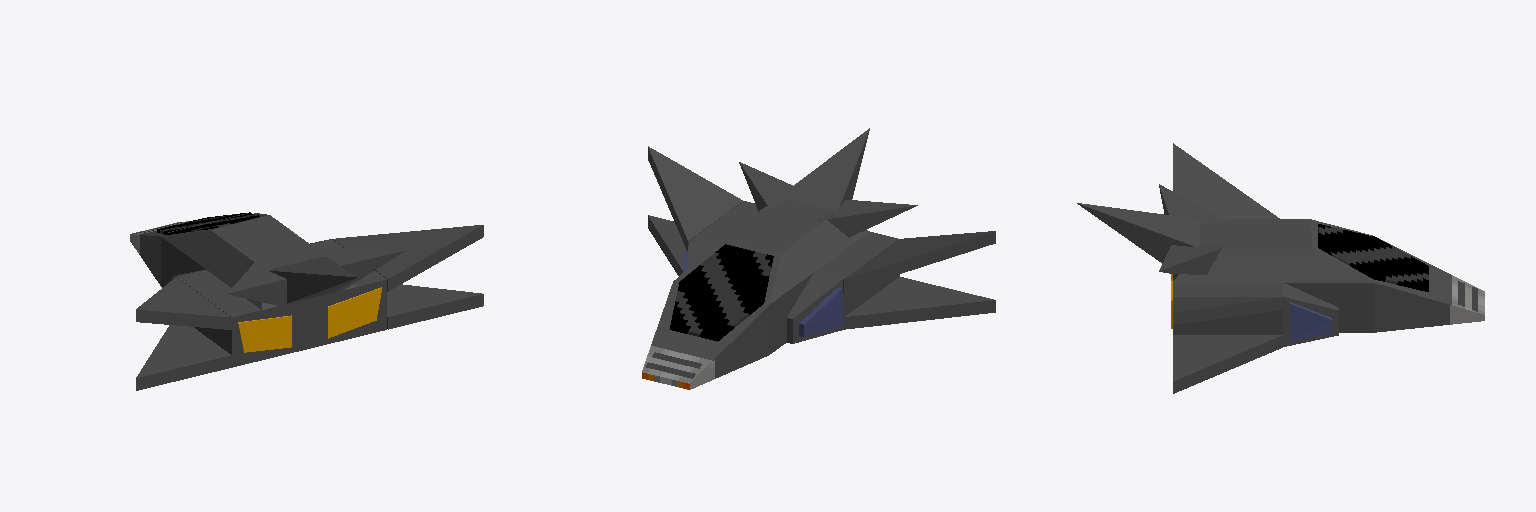
3 views of the same model, side by side, from view 1: azimuth 30°, elevation 25°; view 2: azimuth 150°, elevation 25°; view 3: azimuth 270°, elevation 25° (orthographic).
Parts seen in each view (by area): view 1: основа-верх, крыло2-верхнее, основа, крыло1, крыло1-верхнее, предкрыльник1, крыло2, хвост, крыло-хвоста1, крыло-хвоста2, фара2, фара1 (+2 smaller); view 2: основа-верх, нос корабля, крыло1, крыло2-верхнее, крыло1-верхнее, стекло1, стекло2, хвост, предкрыльник1, крыло-хвоста1, часть предкрыльника1, часть части предкрыльника1 (+4 smaller); view 3: основа-верх, нос корабля, крыло2, предкрыльник2, крыло1-верхнее, хвост, основа, крыло2-верхнее, стекло1, стекло2, крыло-хвоста2, часть предкрыльника2 (+2 smaller).
Boxes of the visible parts, box(x1,y1,x2,y2) form: основа-верх: box(162, 213, 357, 309); крыло2-верхнее: box(332, 225, 483, 291); основа: box(161, 213, 357, 359); крыло1: box(136, 325, 231, 390); крыло1-верхнее: box(136, 277, 231, 329); предкрыльник1: box(177, 270, 261, 367); крыло2: box(387, 284, 483, 329); хвост: box(269, 256, 357, 303); крыло-хвоста1: box(227, 259, 291, 308); крыло-хвоста2: box(306, 247, 405, 299); фара2: box(328, 287, 381, 338); фара1: box(238, 315, 291, 352); основа-верх: box(673, 200, 869, 304); нос корабля: box(642, 282, 768, 389); крыло1: box(844, 277, 995, 329); крыло2-верхнее: box(648, 146, 742, 250); крыло1-верхнее: box(844, 231, 995, 291); стекло1: box(670, 281, 763, 341); стекло2: box(681, 244, 773, 302); хвост: box(780, 128, 869, 209); предкрыльник1: box(815, 232, 899, 316); крыло-хвоста1: box(818, 200, 917, 237); часть предкрыльника1: box(787, 272, 843, 343); часть части предкрыльника1: box(799, 287, 842, 336); основа-верх: box(1173, 219, 1373, 282); нос корабля: box(1374, 239, 1484, 332); крыло2: box(1173, 335, 1282, 393); предкрыльник2: box(1173, 283, 1282, 334); крыло1-верхнее: box(1173, 143, 1279, 218); хвост: box(1077, 203, 1199, 263); основа: box(1285, 283, 1373, 332); крыло2-верхнее: box(1173, 297, 1282, 324); стекло1: box(1374, 236, 1428, 291); стекло2: box(1318, 224, 1373, 278); крыло-хвоста2: box(1159, 244, 1225, 274); часть предкрыльника2: box(1283, 283, 1338, 346).
Size of the model in its own units: 3.62 by 1.06 by 3.69.
2 materials, 2 textured.